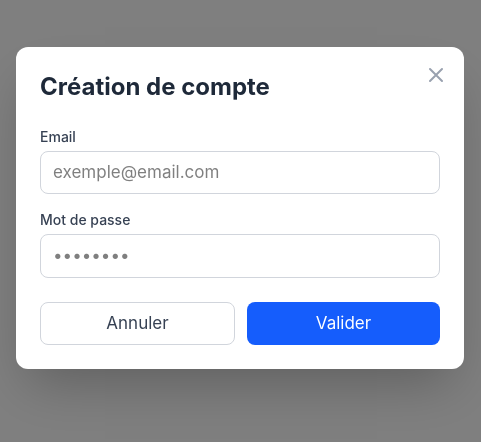
Scenario: RegisterModal › affiche un message d'erreur lorsque la réponse est vide
Type "test@example.com" into the field labelled "Email" at {"x": 240, "y": 173}, box [40,151,440,194]
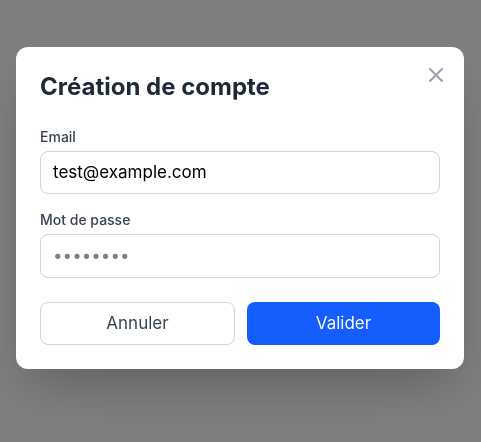
Type "password123" into the password field labelled "Mot de passe" at {"x": 240, "y": 256}, box [40,234,440,278]
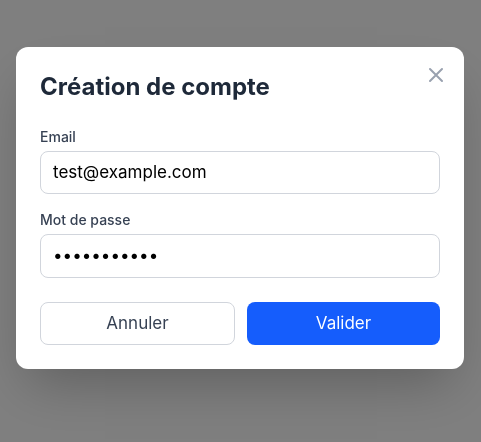
Submit the form, box [40,127,440,345]
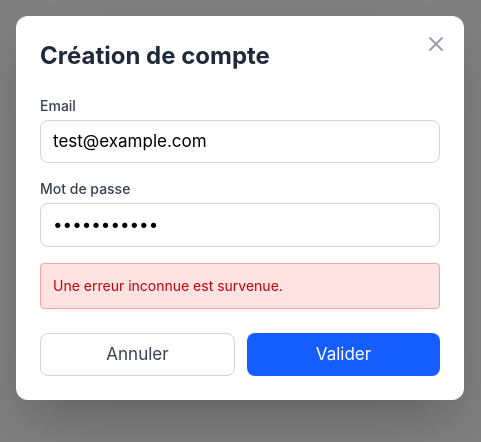
Result: the text "Une erreur inconnue est survenue" is shown at [53,277,283,294]
